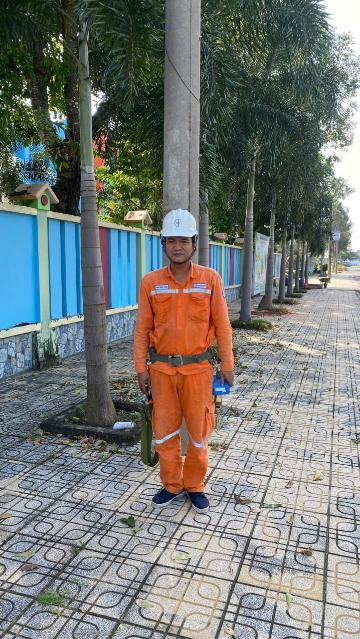harness: (140, 338, 222, 377)
helmet: (143, 204, 207, 242)
shoes: (138, 482, 187, 511), (183, 484, 217, 514)
